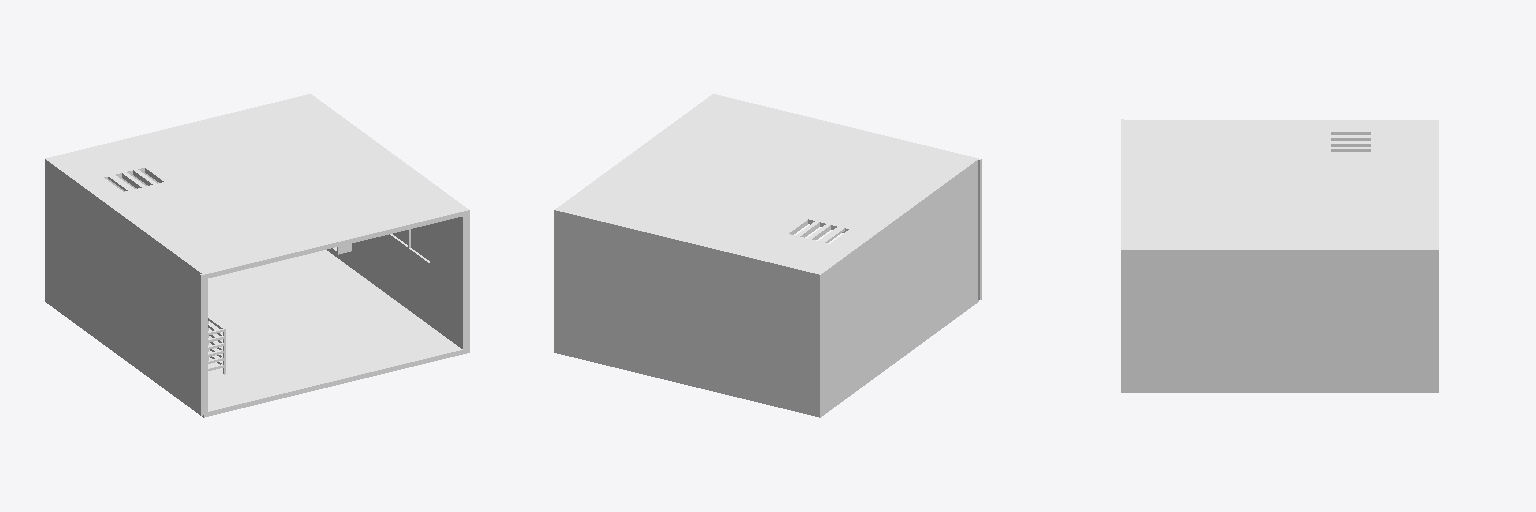
Rendered from room1.obj.
3 views of the same model, side by side, from view 1: azimuth 30°, elevation 25°; view 2: azimuth 150°, elevation 25°; view 3: azimuth 270°, elevation 25° (orthographic).
Visible parts, largest first — view 1: object 1; view 2: object 1; view 3: object 1.
Boxes of the visible parts, <box> form: object 1: <box>45,94,469,417</box>; object 1: <box>554,94,981,417</box>; object 1: <box>1121,119,1438,392</box>.
Size of the model in its own units: 11.8 by 6 by 12.1.